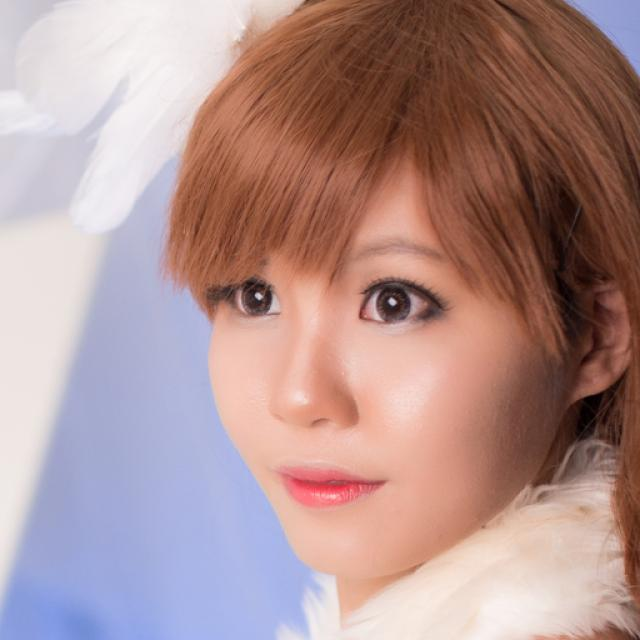neutral: (207, 103, 571, 580)
